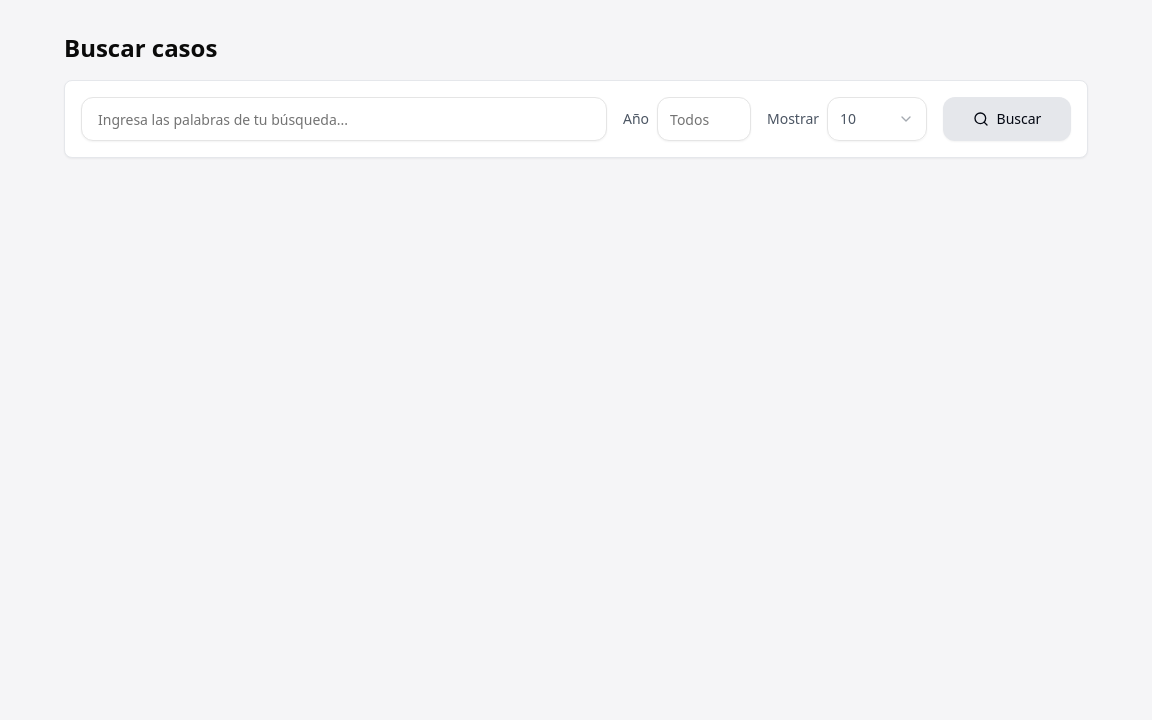
Scenario: loads spaces, performs search, and renders results
The width and height of the screenshot is (1152, 720).
Note: Type a query and trigger search
Type "contrato" into the search field with placeholder "Ingresa las palabras de tu búsqueda...". click: x=344, y=119
box: [81,97,607,141]
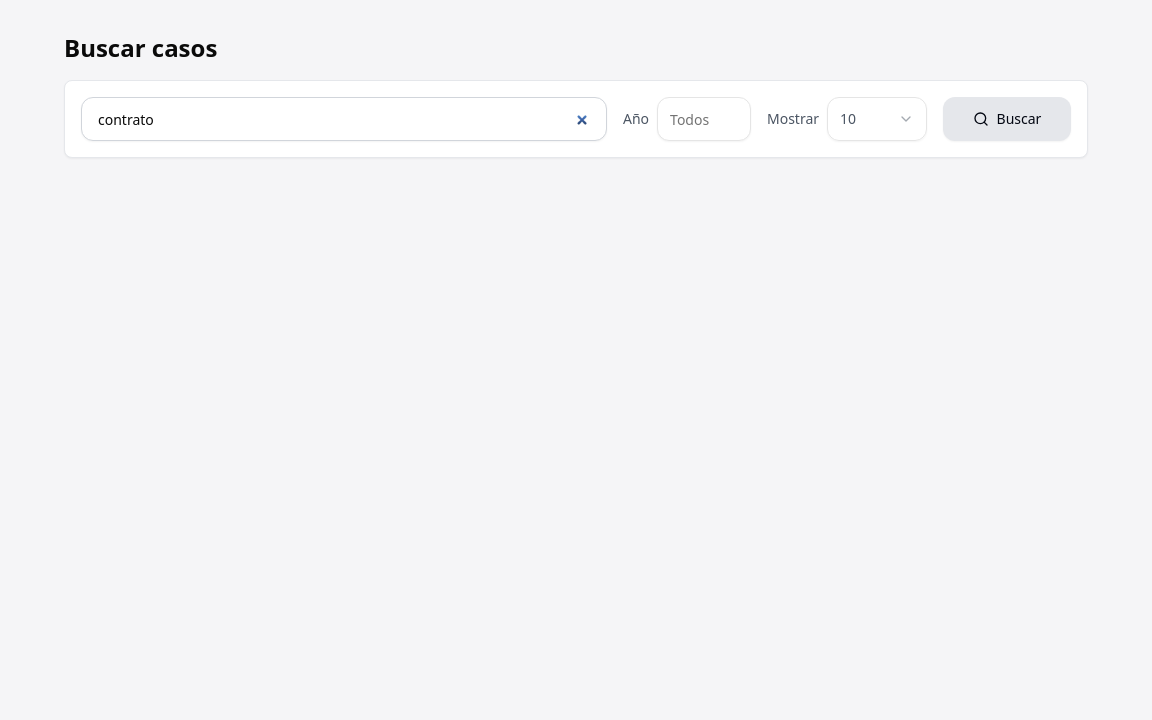
Click the button "Buscar". click: x=1007, y=119
box: [943,97,1071,141]
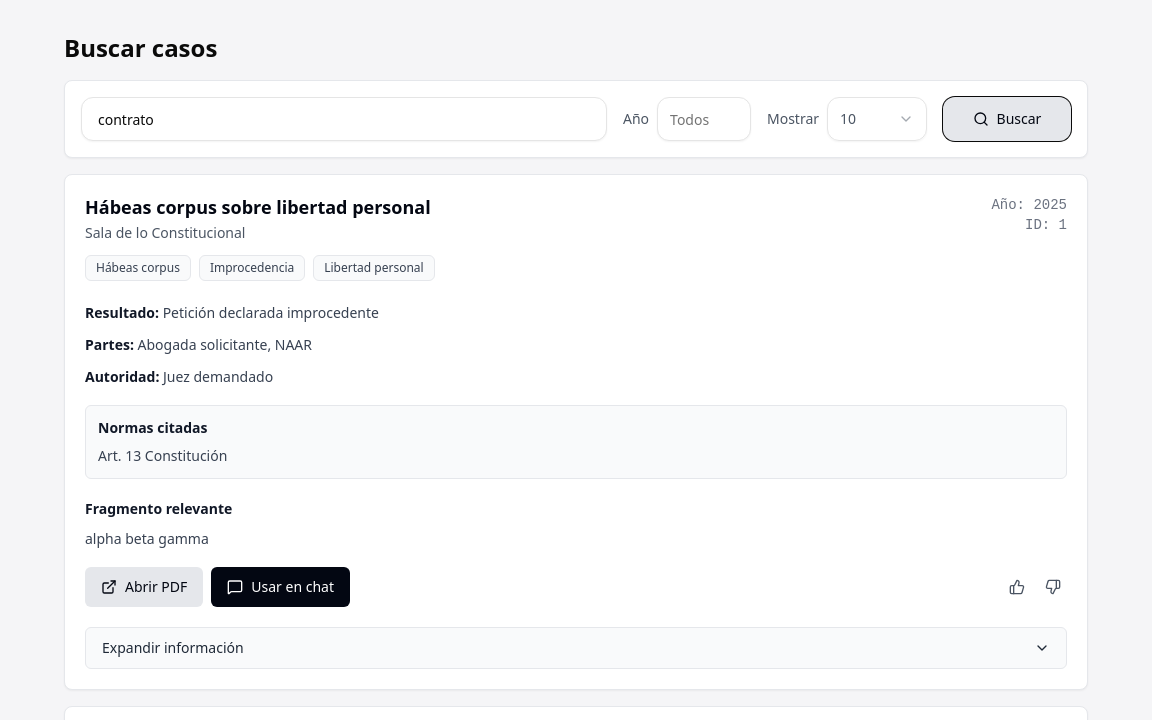
Expected: the heading "Hábeas corpus sobre libertad personal" is shown, [85,195,435,219]
Expected: the text "Sala de lo Constitucional" is shown, [85,223,246,242]
Expected: the text "Petición declarada improcedente" is shown, [163,303,379,322]
